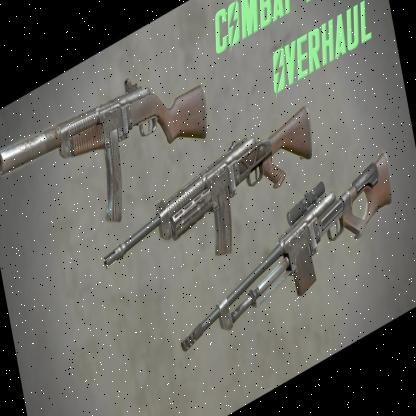rifle: (165, 143, 411, 367), (0, 34, 215, 270), (96, 98, 325, 291)
